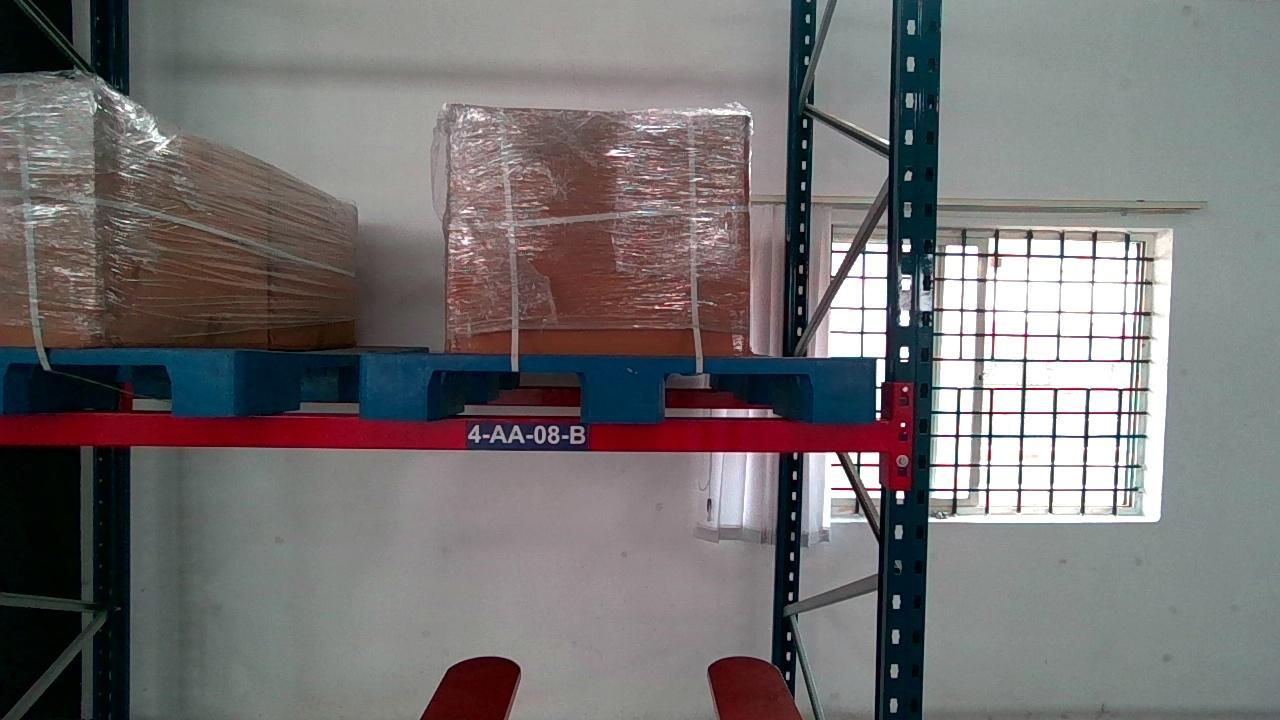h_rack: (1, 410, 889, 449)
small_pallet: (361, 351, 872, 418), (0, 343, 236, 419)
